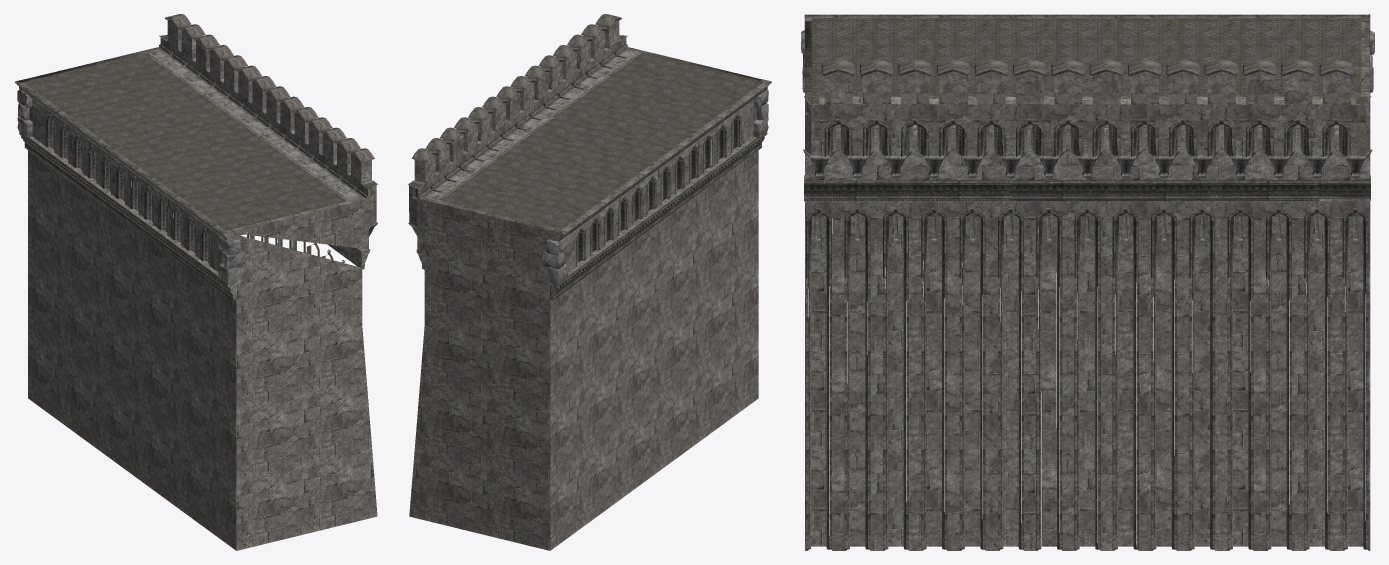
Rendered from eso_ss13_buildingplatform1-transformed.glb.
The picture shows the model from 3 angles, left to right: view 1: azimuth 30°, elevation 25°; view 2: azimuth 150°, elevation 25°; view 3: azimuth 270°, elevation 25°; orthographic projection. The views are drawn at different scales.
Visible parts, largest first — view 1: default; view 2: default; view 3: default.
Part boxes in pixels (x1=…): default: x1=14, y1=14, x2=377, y2=550; default: x1=408, y1=14, x2=771, y2=550; default: x1=801, y1=14, x2=1374, y2=550.
Bounding box in the file's own units: 17.28 × 37.2 × 39.88.
5 materials, 5 textured.
